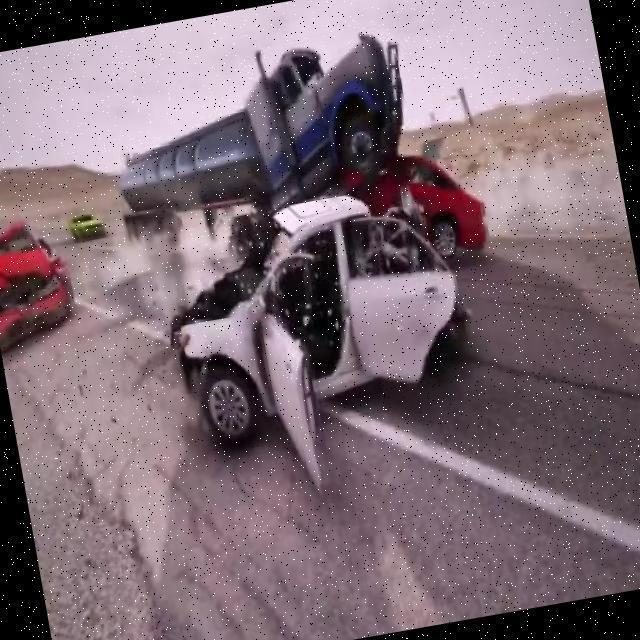accident: (105, 68, 532, 471)
